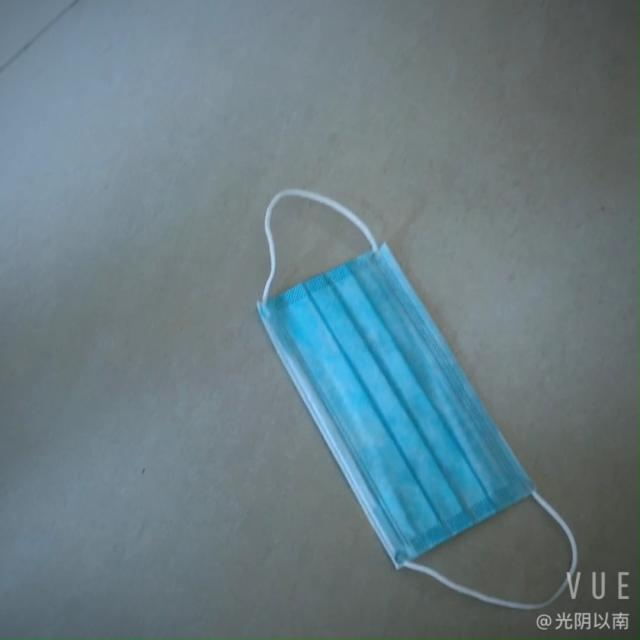face mask: (255, 241, 540, 570)
